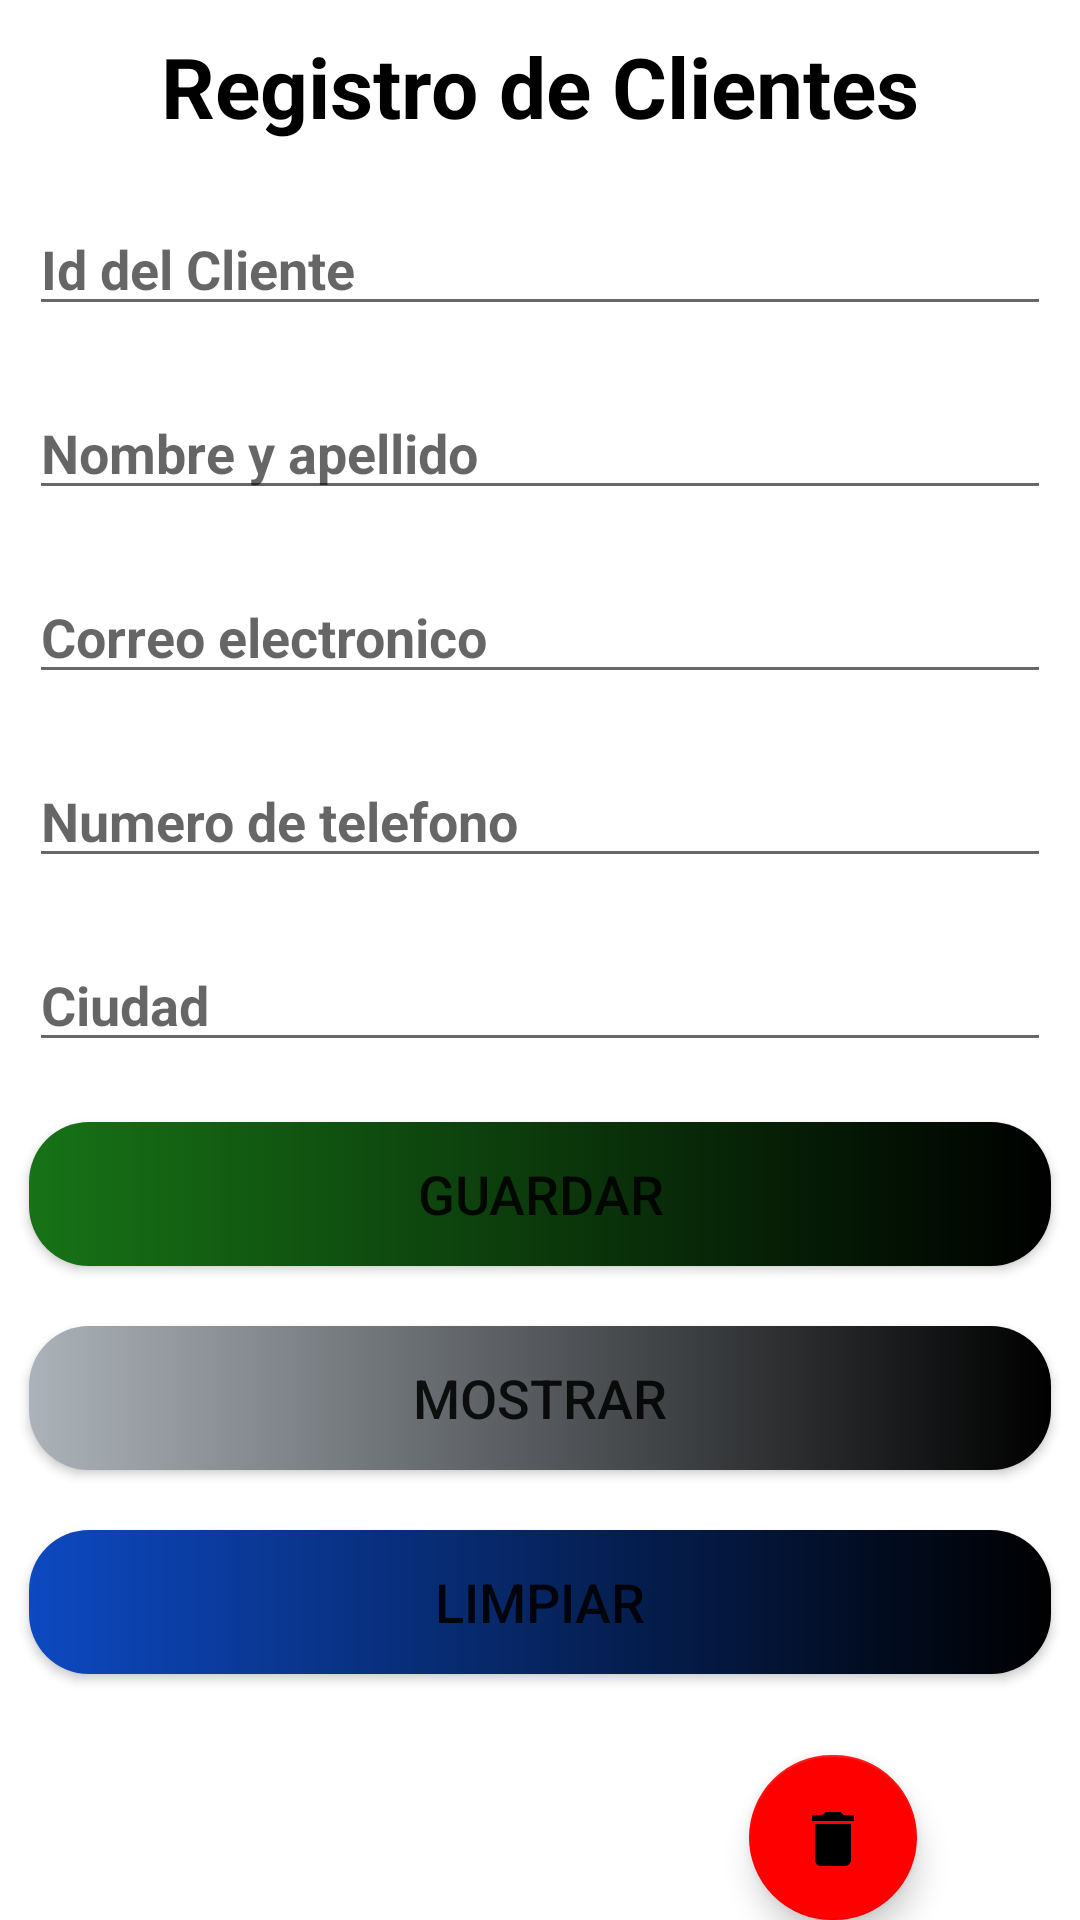

Locate icon controls on the screen. Image size 1080x1920, boxes as bbox(x1, y1, x2, y2).
delete: bbox(749, 1755, 917, 1920)
